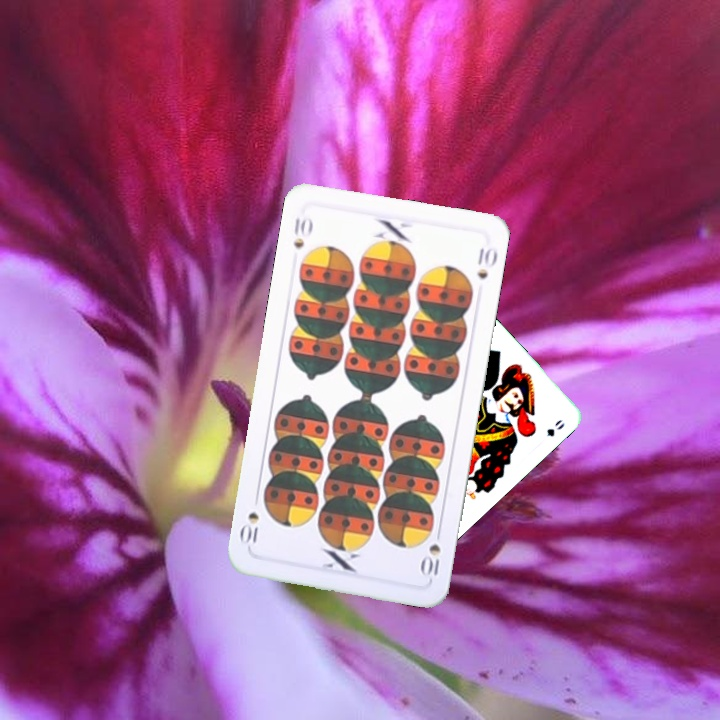S10: (418, 524, 444, 582), (289, 213, 315, 251)
